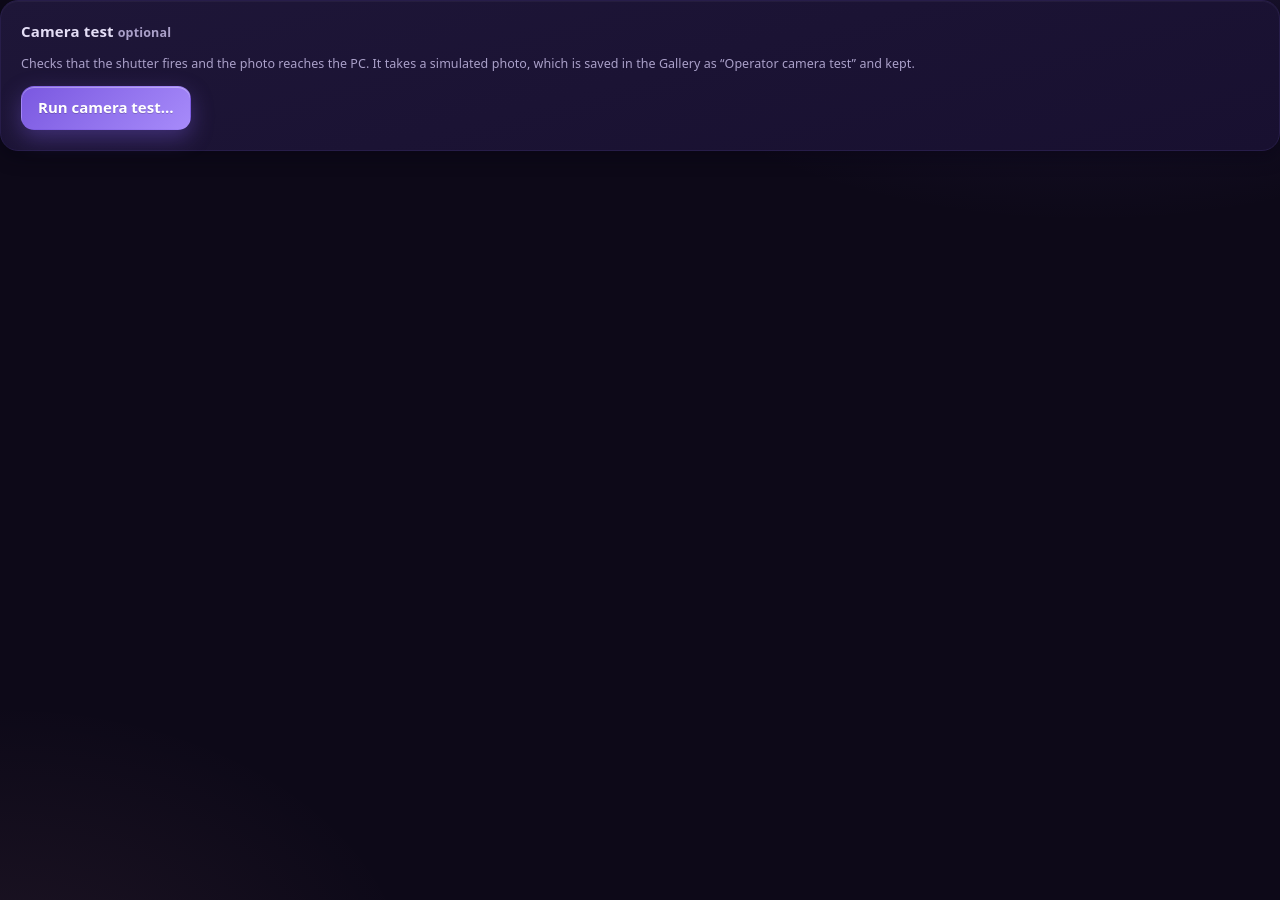
Test: camera test › a simulated camera is reported as a demo, not as a hardware check
The width and height of the screenshot is (1280, 900).
Later steps or results of the test are not shown.
Click the button "Run camera test…": [106, 108] box [21,86,190,130]
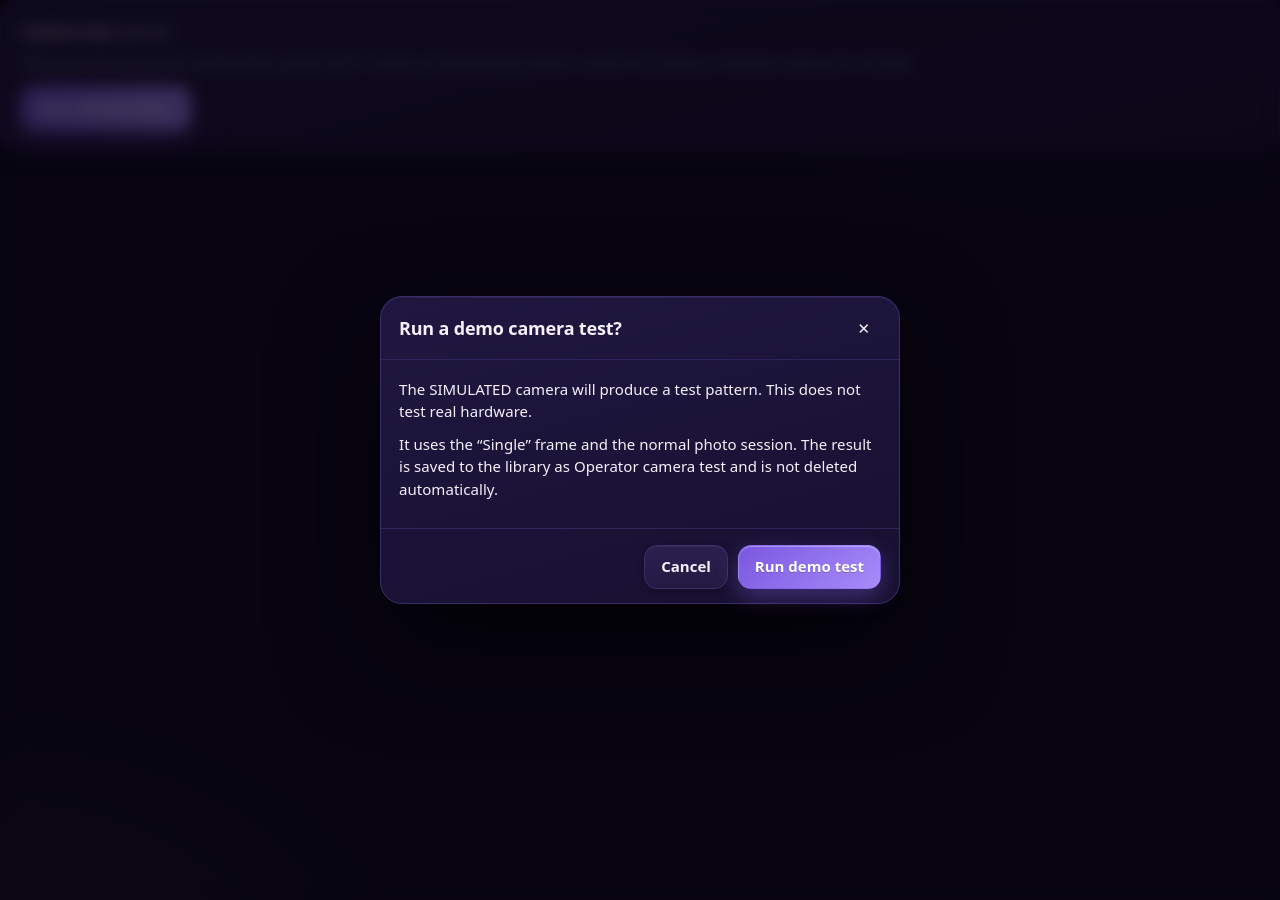
Result: the dialog shows "does not test real hardware" at [399,379,861,421]
